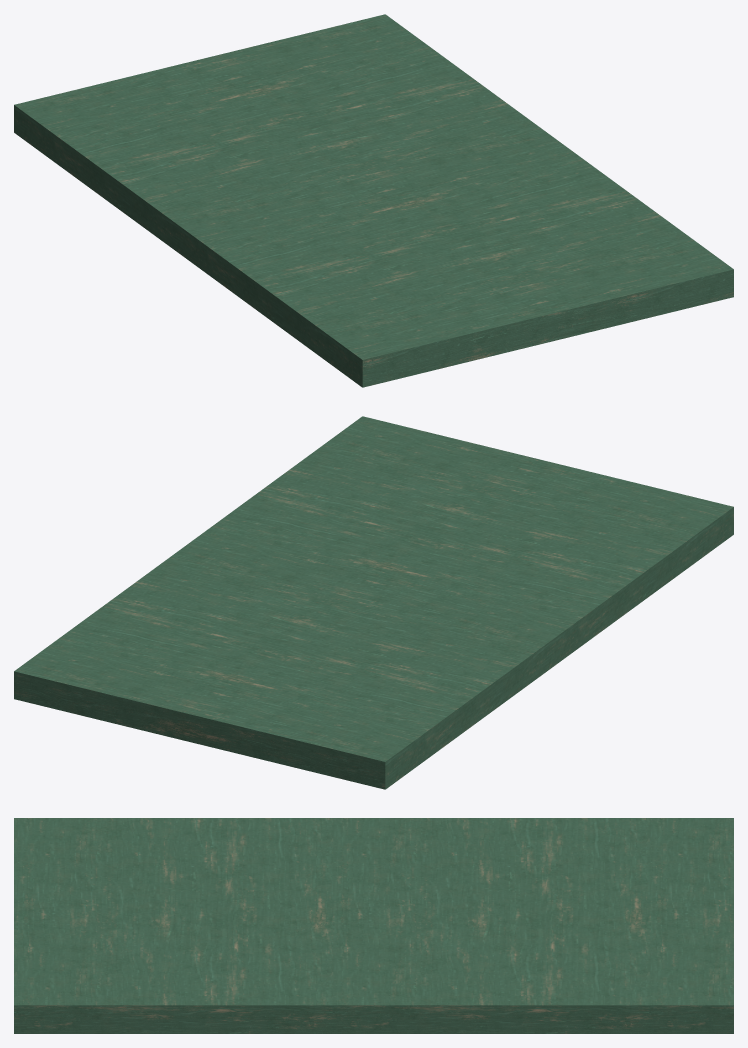
File: SM_CGJ_Ceiling01d.fbx
3 views of the same model, one above another, from view 1: azimuth 30°, elevation 25°; view 2: azimuth 150°, elevation 25°; view 3: azimuth 270°, elevation 25° (orthographic). The views are drawn at different scales.
Parts seen in each view (by area): view 1: SM_CGJ_Ceiling01d; view 2: SM_CGJ_Ceiling01d; view 3: SM_CGJ_Ceiling01d.
Part boxes in pixels (x1,y1,x2,y2): SM_CGJ_Ceiling01d: (14,14,733,387); SM_CGJ_Ceiling01d: (14,416,733,789); SM_CGJ_Ceiling01d: (14,818,733,1033).
Size of the model in its own units: 140 by 228 by 10.
Materials: 3 (3 with a texture image).
